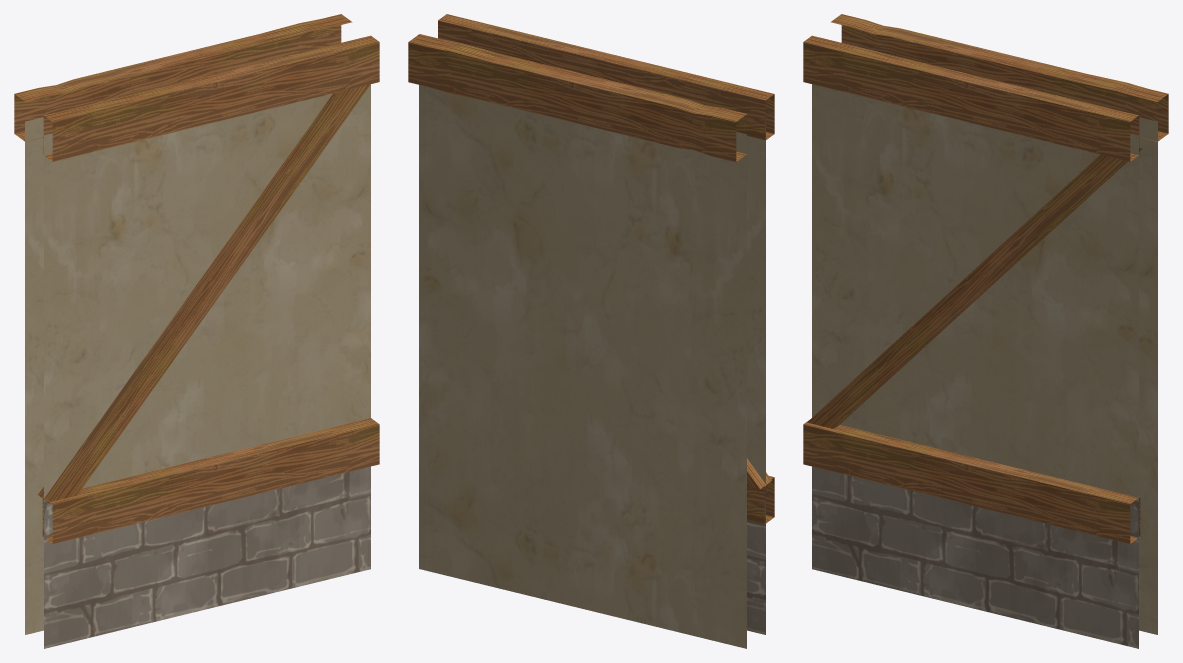
The model's file is Wall_Plaster_Straight_R.obj.
The picture shows the model from 3 angles, left to right: view 1: azimuth 30°, elevation 25°; view 2: azimuth 150°, elevation 25°; view 3: azimuth 330°, elevation 25°; orthographic projection.
Visible parts, largest first — view 1: Wall_Plaster_Straight_R; view 2: Wall_Plaster_Straight_R; view 3: Wall_Plaster_Straight_R.
Part boxes in pixels (x1,y1,x2,y2): Wall_Plaster_Straight_R: (14, 14, 379, 648); Wall_Plaster_Straight_R: (408, 14, 774, 648); Wall_Plaster_Straight_R: (803, 14, 1168, 648).
Size of the model in its own units: 2 by 3.12 by 0.4065.
